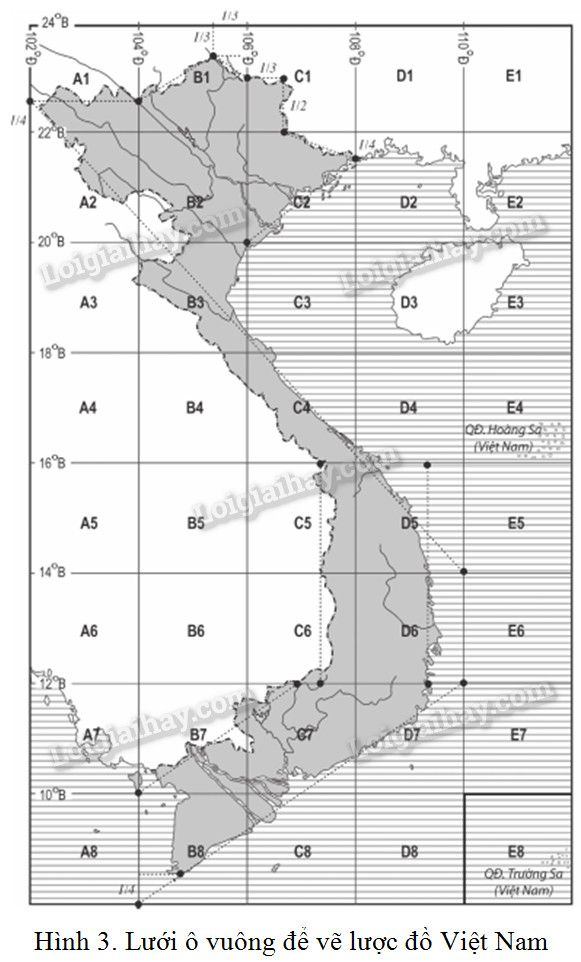Island: (466, 407, 571, 460), (478, 856, 569, 910)
